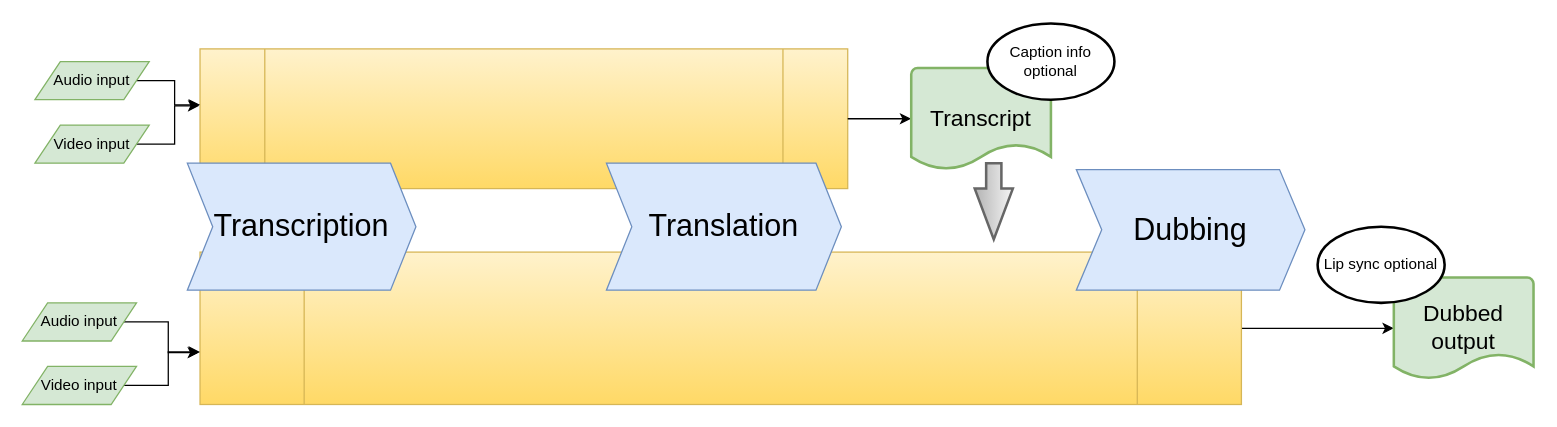
This 1557x427 diagram has some shape labels left out. Each missing label, with the centre of its shape:
"Dub API" goes at (x=720, y=327).
"Transcribe API" goes at (x=523, y=118).
